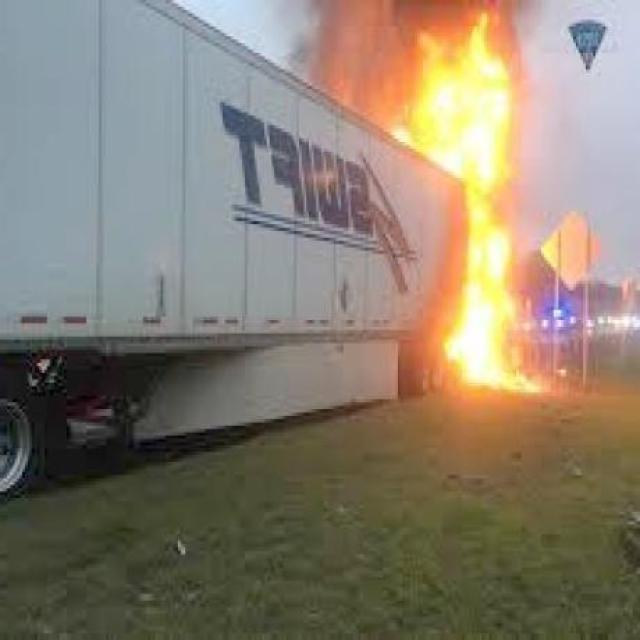Fire: (412, 12, 560, 414)
Smoke: (298, 2, 411, 136)
